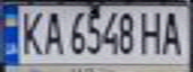4: (100, 8, 121, 55)
5: (84, 7, 103, 56)
6: (63, 8, 87, 56)
8: (115, 8, 139, 55)
A: (157, 8, 187, 56), (39, 8, 66, 56)
H: (136, 8, 166, 56)
K: (15, 7, 45, 56)
